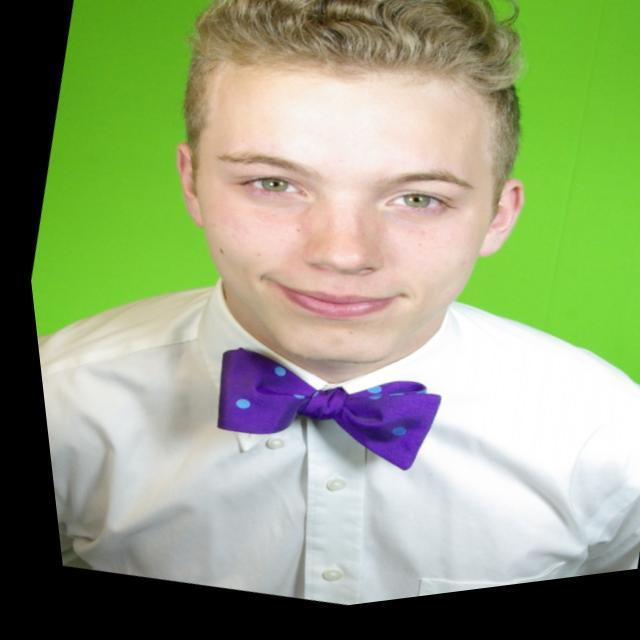Nonhelmet: (172, 1, 529, 369)
